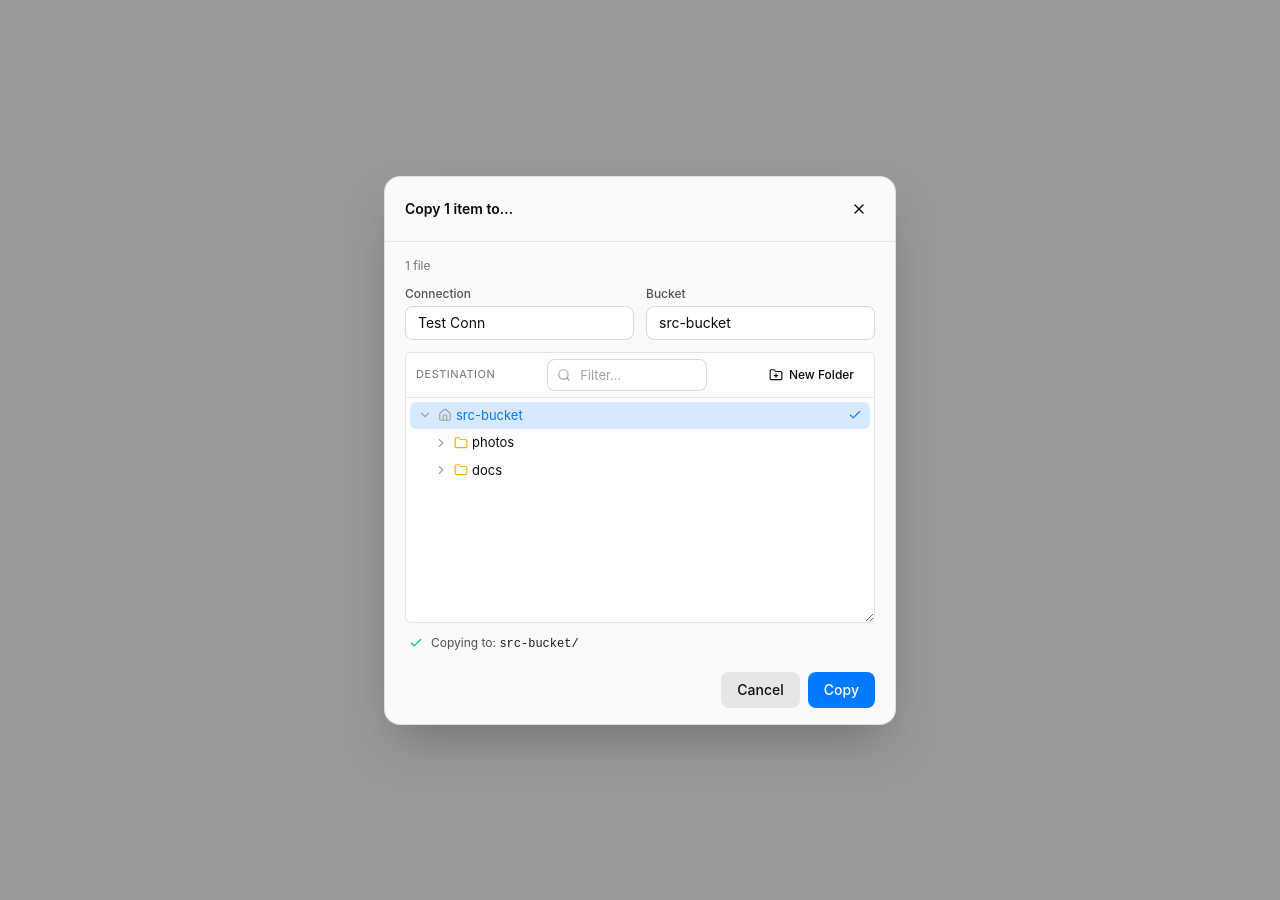
Test: CopyToModal tree picker › expands a folder when its disclosure triangle is clicked, without changing the selection
The width and height of the screenshot is (1280, 900).
Expected: the element with test id "copy-tree-row-photos/" is shown, [432,434,514,452]
Click the button with test id "copy-tree-disclosure-photos/" at (441, 443), box [432,434,450,452]
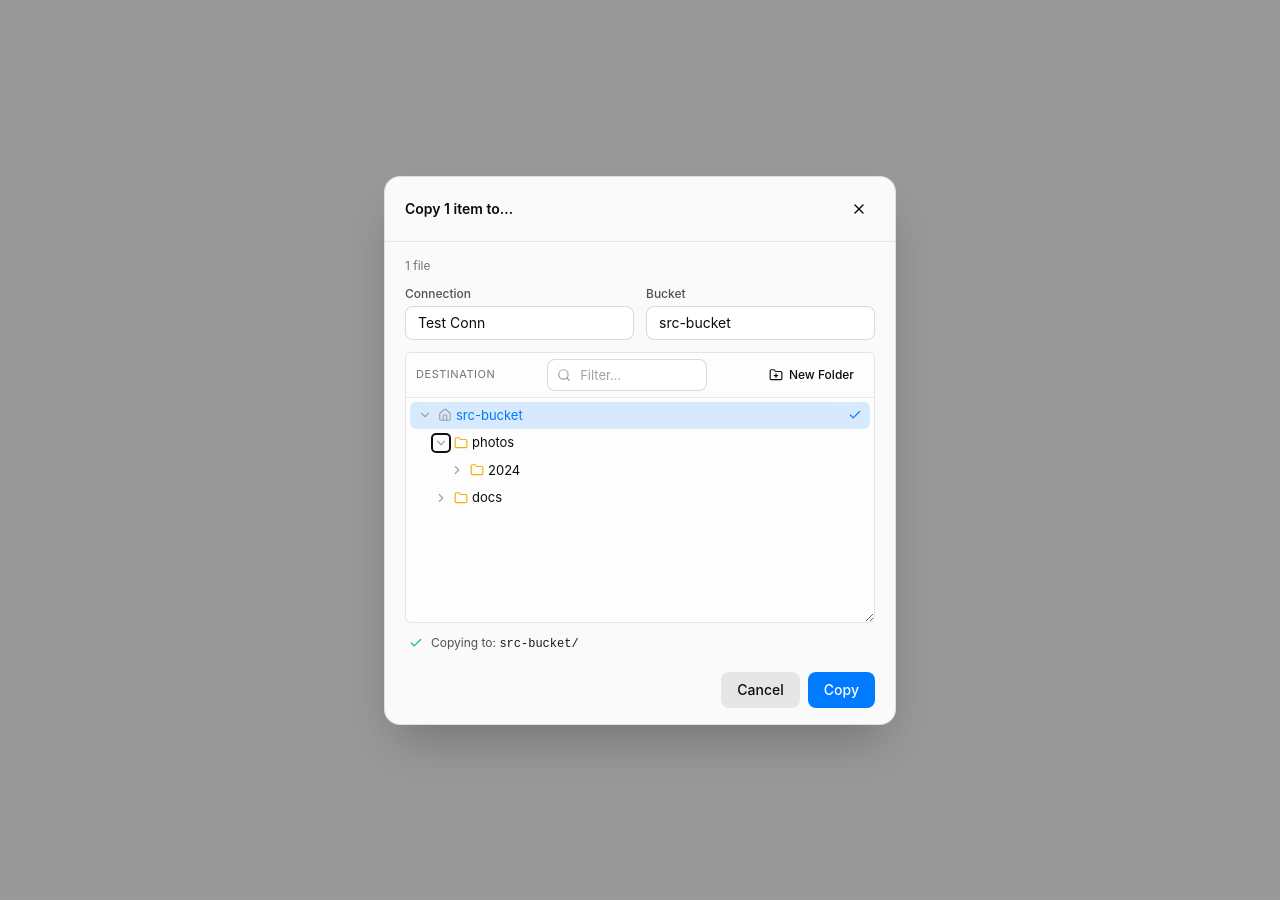
Expected: the text with test id "copy-destination" reads "src-bucket/", [499,636,579,650]
Now the element with test id "copy-tree-row-photos/2024/" is shown, box [448,461,520,479]
